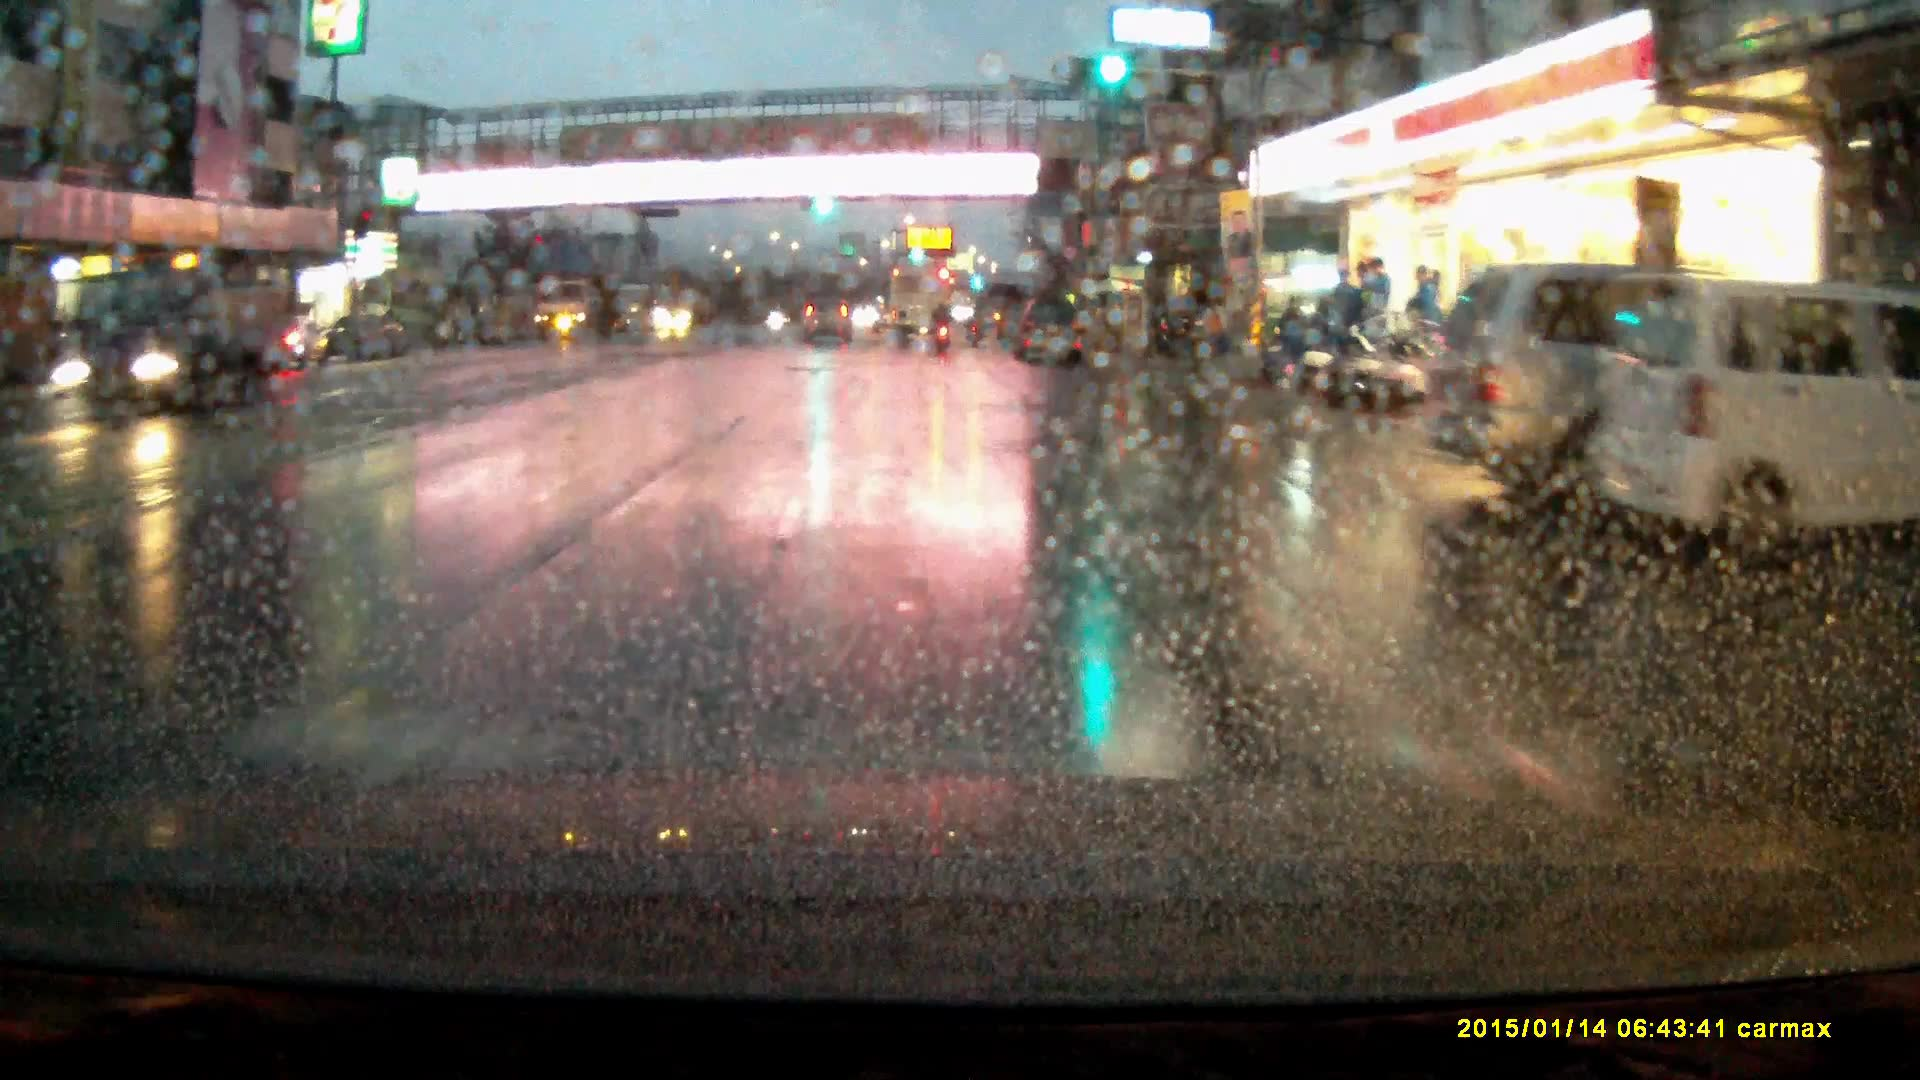rider: (933, 300, 958, 353)
vehicle: (1596, 272, 1920, 572), (1427, 263, 1803, 516), (50, 263, 288, 422), (890, 265, 956, 345), (536, 282, 617, 345), (1015, 292, 1084, 367), (1150, 298, 1231, 357), (315, 314, 411, 363), (662, 280, 720, 330), (800, 296, 855, 346)
